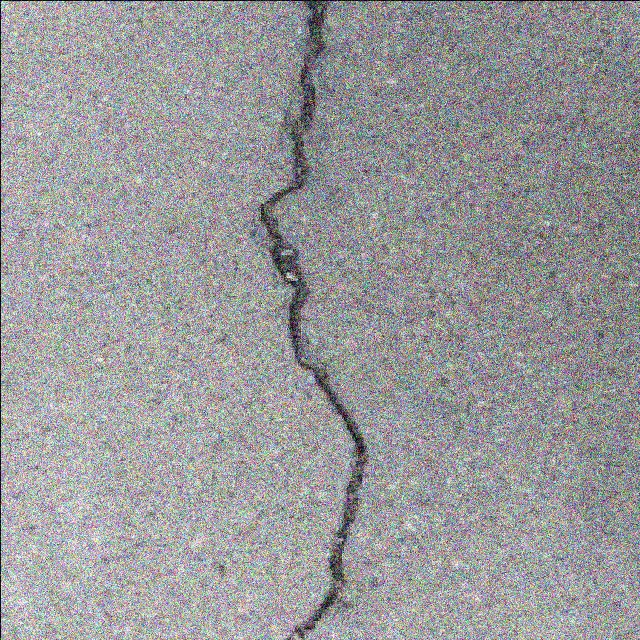SurfaceCrack: (218, 0, 386, 640)
